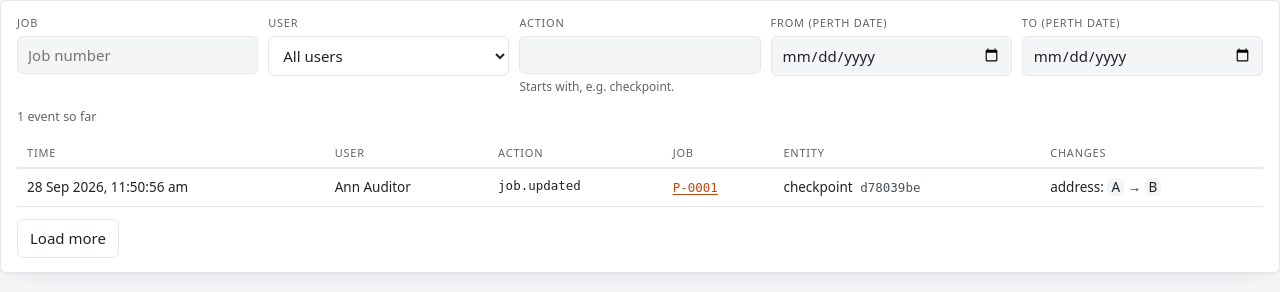
Scenario: AuditPage Perth date range › shows no matches and stops paging when the end date is before the start date
Expected: the text "job.updated" is shown, [488, 168, 663, 207]
Step 1. Type "2026-09-28" into the date field labelled "From (Perth date)" → {"x": 891, "y": 56}, box [771, 36, 1012, 76]
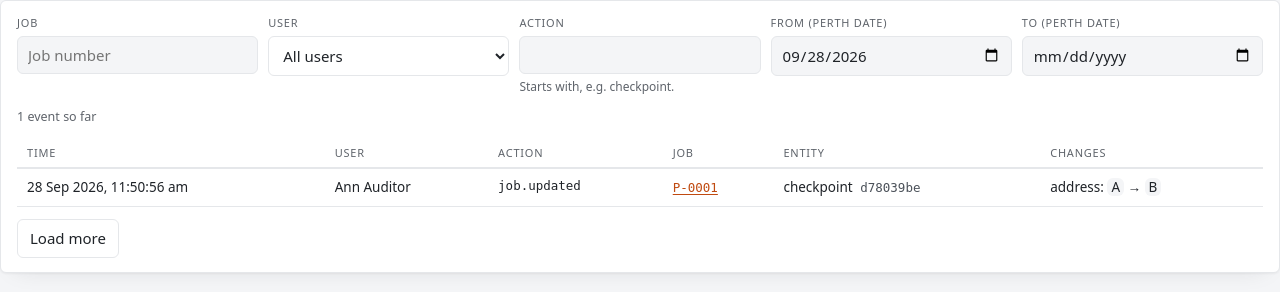
Step 2. Type "2026-09-01" into the date field labelled "To (Perth date)" → {"x": 1142, "y": 56}, box [1022, 36, 1263, 76]
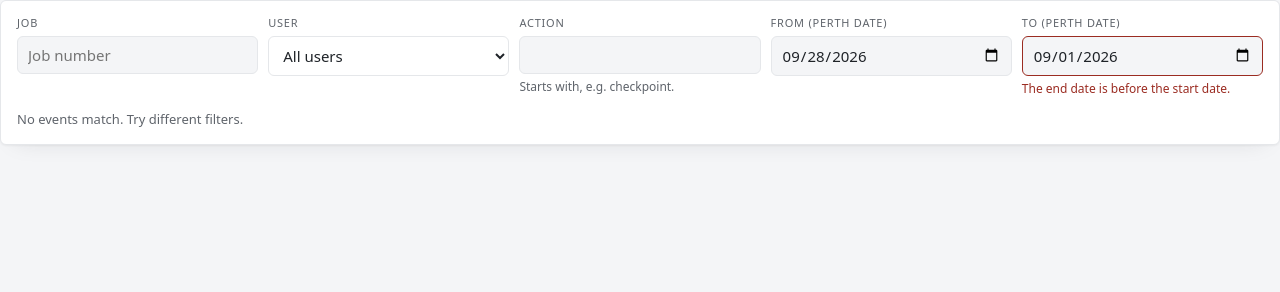
Result: the text "No events match. Try different filters." is shown at [17, 110, 243, 128]
Result: the button "Load more" is gone
